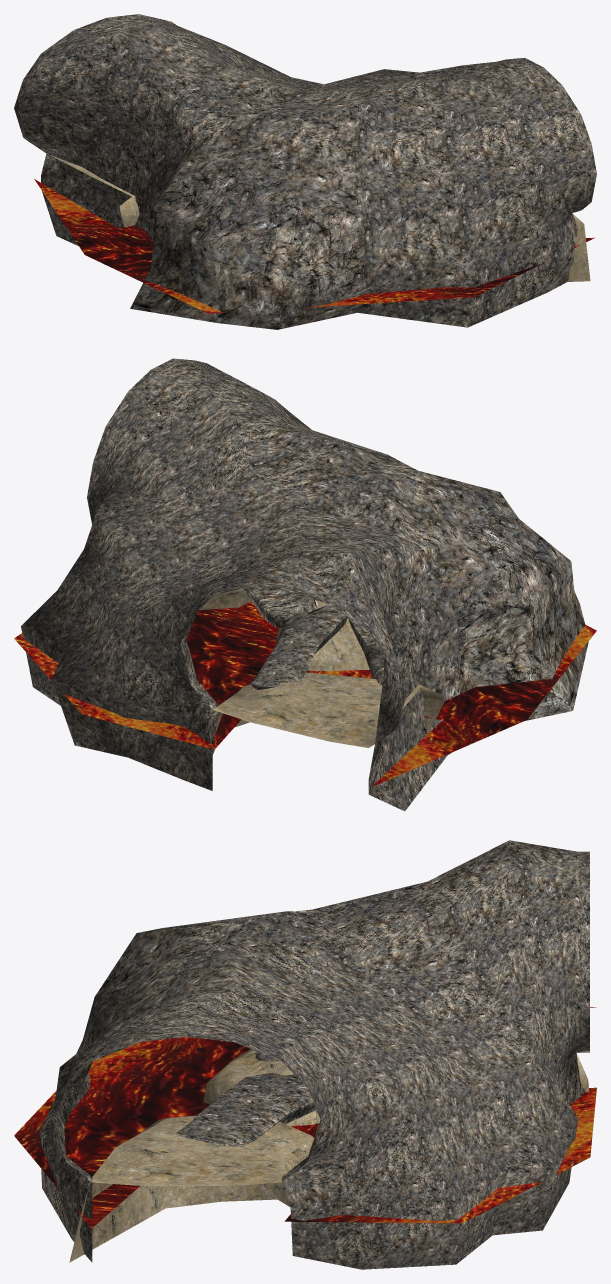
The model's file is pir_m_are_cav_curveWide_ravine_lava.fbx.
3 renders of one model, top to bottom at view 1: azimuth 30°, elevation 25°; view 2: azimuth 150°, elevation 25°; view 3: azimuth 270°, elevation 25°, orthographic. The views are drawn at different scales.
Visible parts, largest first — view 1: standardCurveWide_left_wall, lava_hot, rockground; view 2: standardCurveWide_left_wall, lava_hot, rockground, rock1, rock_1, rock, rock2; view 3: standardCurveWide_left_wall, lava_hot, rockground, rock, rock_1.
Boxes of the visible parts, bbox=[...] form: standardCurveWide_left_wall: bbox=[14, 14, 596, 329]; lava_hot: bbox=[34, 179, 594, 313]; rockground: bbox=[48, 154, 590, 281]; standardCurveWide_left_wall: bbox=[21, 358, 588, 811]; lava_hot: bbox=[14, 601, 596, 787]; rockground: bbox=[199, 588, 443, 754]; rock1: bbox=[250, 604, 347, 689]; rock_1: bbox=[276, 601, 369, 670]; rock: bbox=[243, 586, 319, 627]; rock2: bbox=[348, 619, 383, 685]; standardCurveWide_left_wall: bbox=[39, 840, 589, 1269]; lava_hot: bbox=[14, 1006, 596, 1228]; rockground: bbox=[69, 1053, 588, 1262]; rock: bbox=[176, 1072, 316, 1146]; rock_1: bbox=[203, 1049, 320, 1126].
Bounding box in the file's own units: 21679 × 10540 × 21719.
Materials: 3 (3 with a texture image).
